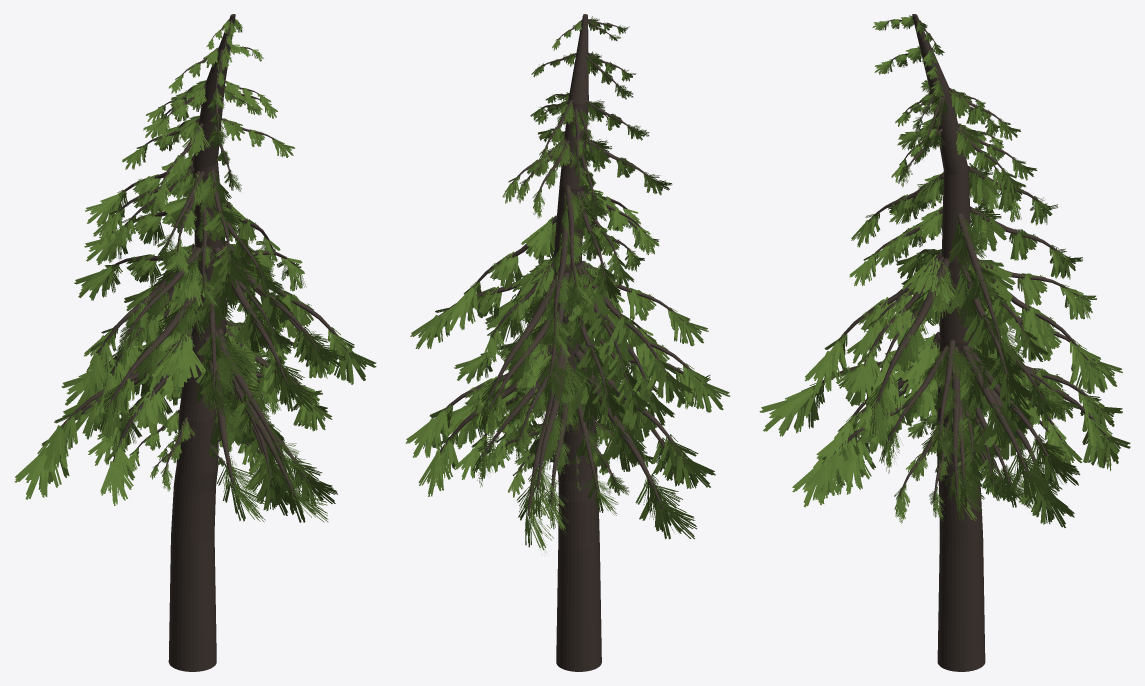
Rendered from Arbol3.fbx.
The picture shows the model from 3 angles, left to right: view 1: azimuth 30°, elevation 25°; view 2: azimuth 150°, elevation 25°; view 3: azimuth 270°, elevation 25°; orthographic projection. The views are drawn at different scales.
Visible parts, largest first — view 1: A1.011, A1.011|H1.003|Dupli|119, A1.011|H1.003|Dupli|106, A1.011|H1.003|Dupli|86, A1.011|H1.003|Dupli|96, A1.011|H1.003|Dupli|125, A1.011|H1.003|Dupli|112, A1.011|H1.003|Dupli|79, A1.011|H1.003|Dupli|85, A1.011|H1.003|Dupli|17, A1.011|H1.003|Dupli|128, A1.011|H1.003|Dupli|92 (+31 smaller); view 2: A1.011, A1.011|H1.003|Dupli|79, A1.011|H1.003|Dupli|92, A1.011|H1.003|Dupli|33, A1.011|H1.003|Dupli|85, A1.011|H1.003|Dupli|65, A1.011|H1.003|Dupli|64, A1.011|H1.003|Dupli|61, A1.011|H1.003|Dupli|43, A1.011|H1.003|Dupli|46, A1.011|H1.003|Dupli|40, A1.011|H1.003|Dupli|96 (+37 smaller); view 3: A1.011, A1.011|H1.003|Dupli|37, A1.011|H1.003|Dupli|17, A1.011|H1.003|Dupli|40, A1.011|H1.003|Dupli|33, A1.011|H1.003|Dupli|43, A1.011|H1.003|Dupli|61, A1.011|H1.003|Dupli|106, A1.011|H1.003|Dupli|119, A1.011|H1.003|Dupli|46, A1.011|H1.003|Dupli|66, A1.011|H1.003|Dupli|123 (+32 smaller).
Boxes of the visible parts, x1,y1,x2,y2 form: A1.011: [168, 14, 235, 671]; A1.011|H1.003|Dupli|119: [205, 247, 316, 412]; A1.011|H1.003|Dupli|106: [195, 337, 266, 522]; A1.011|H1.003|Dupli|86: [100, 327, 205, 505]; A1.011|H1.003|Dupli|96: [98, 289, 208, 444]; A1.011|H1.003|Dupli|125: [196, 329, 296, 515]; A1.011|H1.003|Dupli|112: [223, 351, 328, 522]; A1.011|H1.003|Dupli|79: [14, 333, 183, 499]; A1.011|H1.003|Dupli|85: [37, 335, 192, 470]; A1.011|H1.003|Dupli|17: [224, 241, 376, 384]; A1.011|H1.003|Dupli|128: [220, 245, 345, 371]; A1.011|H1.003|Dupli|92: [82, 245, 200, 396]; A1.011: [553, 14, 601, 671]; A1.011|H1.003|Dupli|79: [568, 350, 697, 539]; A1.011|H1.003|Dupli|92: [574, 264, 692, 403]; A1.011|H1.003|Dupli|33: [441, 215, 556, 330]; A1.011|H1.003|Dupli|85: [580, 353, 715, 488]; A1.011|H1.003|Dupli|65: [516, 345, 594, 550]; A1.011|H1.003|Dupli|64: [528, 353, 593, 520]; A1.011|H1.003|Dupli|61: [478, 271, 574, 439]; A1.011|H1.003|Dupli|43: [408, 345, 550, 455]; A1.011|H1.003|Dupli|46: [418, 346, 552, 496]; A1.011|H1.003|Dupli|40: [410, 264, 549, 349]; A1.011|H1.003|Dupli|96: [595, 308, 729, 412]; A1.011: [912, 14, 985, 671]; A1.011|H1.003|Dupli|37: [960, 345, 1057, 504]; A1.011|H1.003|Dupli|17: [868, 258, 964, 450]; A1.011|H1.003|Dupli|40: [947, 265, 1031, 409]; A1.011|H1.003|Dupli|33: [948, 213, 1025, 368]; A1.011|H1.003|Dupli|43: [963, 345, 1080, 487]; A1.011|H1.003|Dupli|61: [978, 261, 1114, 393]; A1.011|H1.003|Dupli|106: [759, 337, 930, 436]; A1.011|H1.003|Dupli|119: [804, 253, 941, 394]; A1.011|H1.003|Dupli|46: [960, 346, 1074, 527]; A1.011|H1.003|Dupli|66: [970, 206, 1082, 279]; A1.011|H1.003|Dupli|123: [805, 386, 938, 500].
Size of what is drawn, in the model's own units: 2648 by 5674 by 2916.
